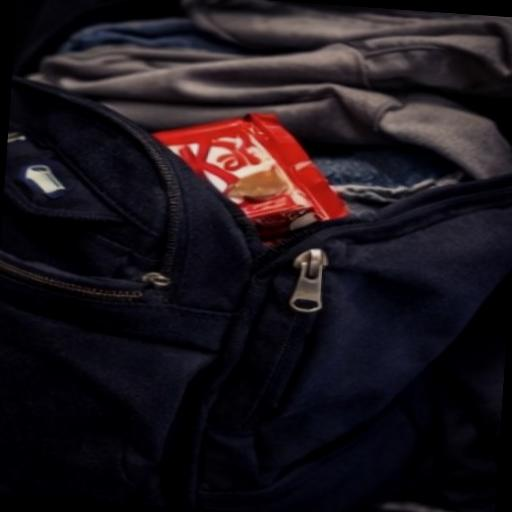kitkat: (0, 81, 443, 287)
